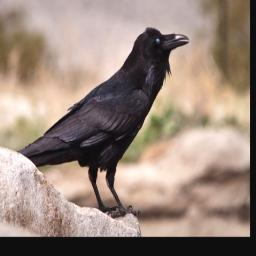Crow: (15, 21, 191, 215)
